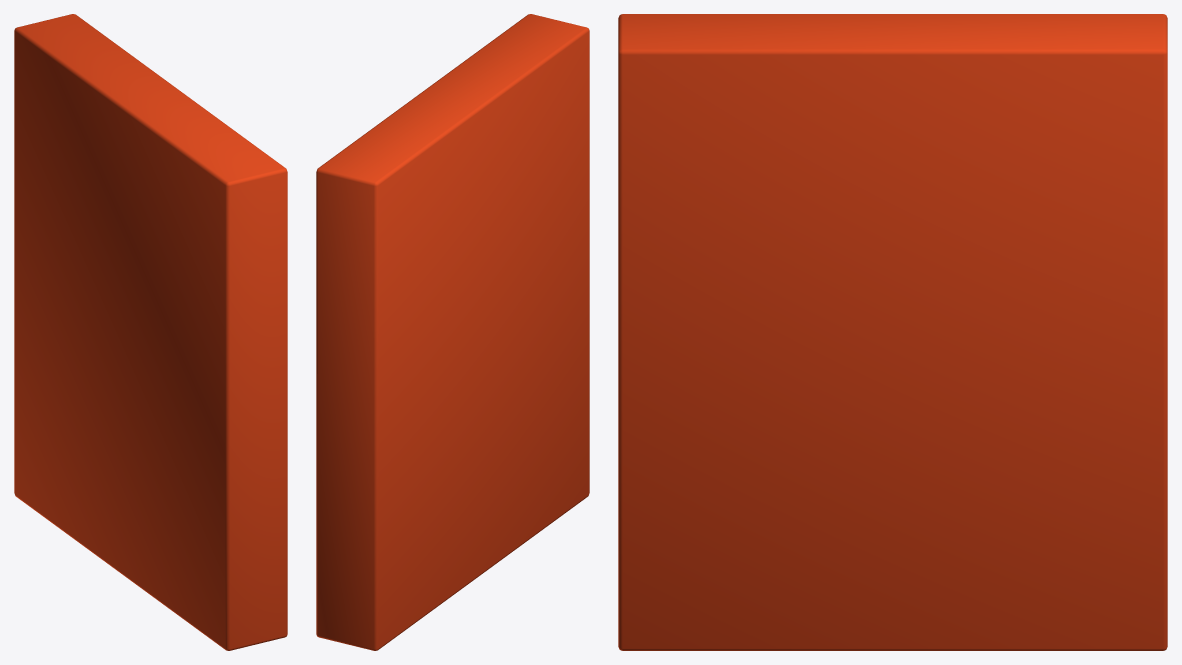
File: cua.fbx
3 views of the same model, side by side, from view 1: azimuth 30°, elevation 25°; view 2: azimuth 150°, elevation 25°; view 3: azimuth 270°, elevation 25° (orthographic). The views are drawn at different scales.
Parts seen in each view (by area): view 1: Cube.005; view 2: Cube.005; view 3: Cube.005.
Boxes of the visible parts, x1=… form: Cube.005: x1=14, y1=14, x2=287, y2=650; Cube.005: x1=316, y1=14, x2=589, y2=650; Cube.005: x1=618, y1=14, x2=1167, y2=650.
Bounding box in the file's own units: 0.5906 × 4.29 × 3.55.
